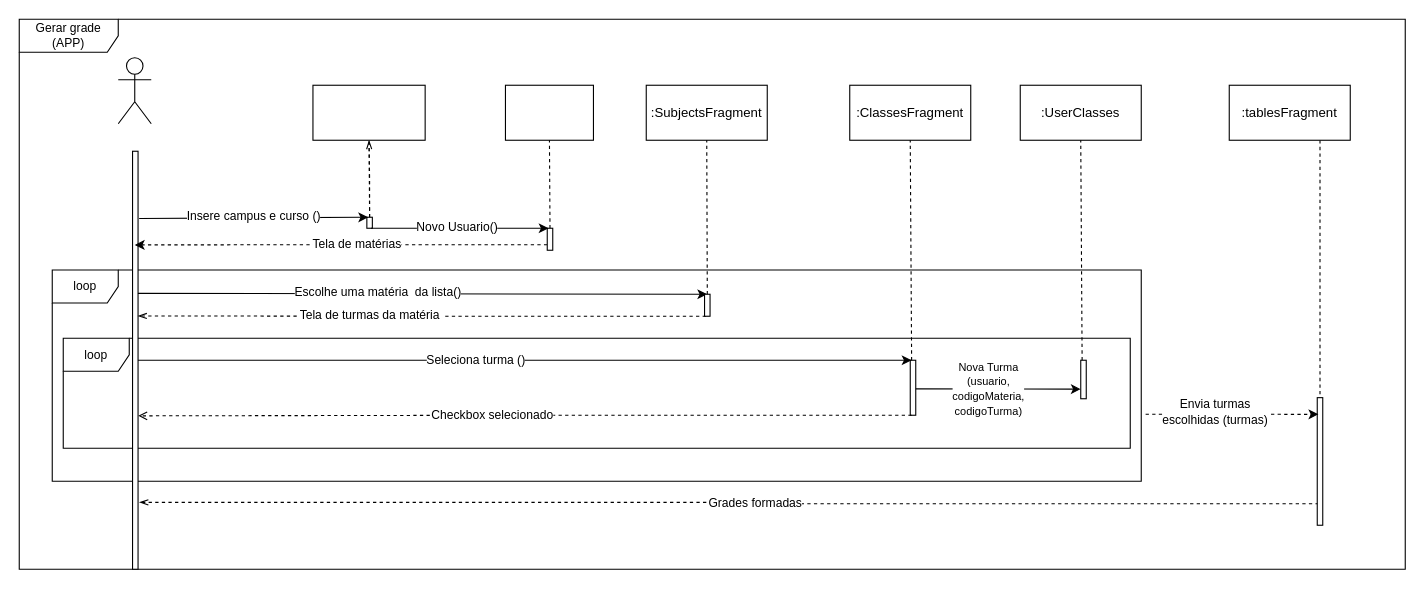
Some shapes in this 1425 by 589 pixel diagram are drawn without their labels. The centre of each missing label's shape, as x and y in pixels:
:CourseFragment: the point at 368,112
:User: the point at 548,112
Usuário: the point at 134,90
